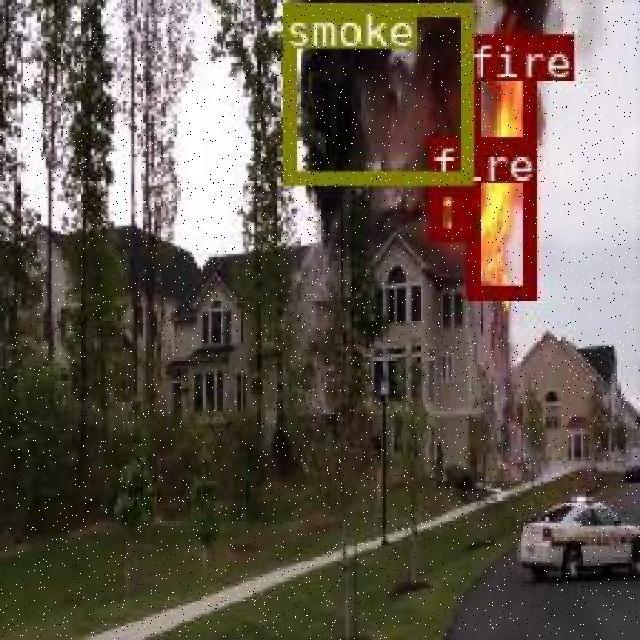Smoke: (312, 33, 440, 148)
